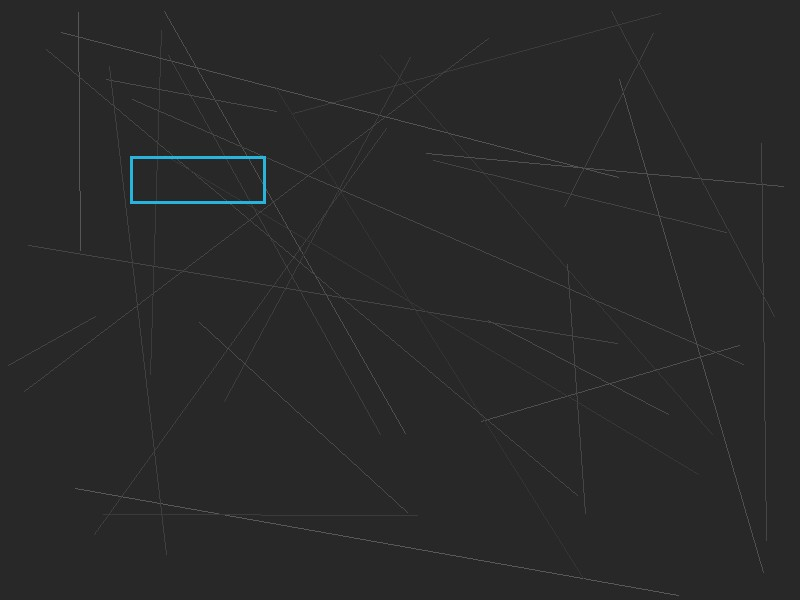D10: (130, 156, 265, 203)
